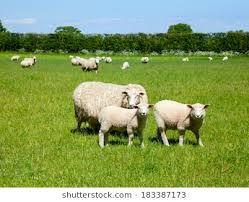sheep: (153, 99, 210, 148), (73, 81, 152, 115), (97, 102, 152, 150), (81, 57, 101, 73), (120, 61, 131, 72), (20, 59, 33, 68), (70, 57, 80, 65), (102, 56, 113, 63), (140, 56, 149, 63), (10, 55, 19, 61), (222, 56, 229, 62), (206, 56, 212, 62), (181, 56, 188, 61)
